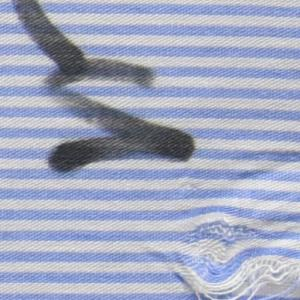Damage: (166, 213, 300, 300)
Stain: (9, 1, 201, 179)
Wrinkle: (237, 148, 300, 186)
